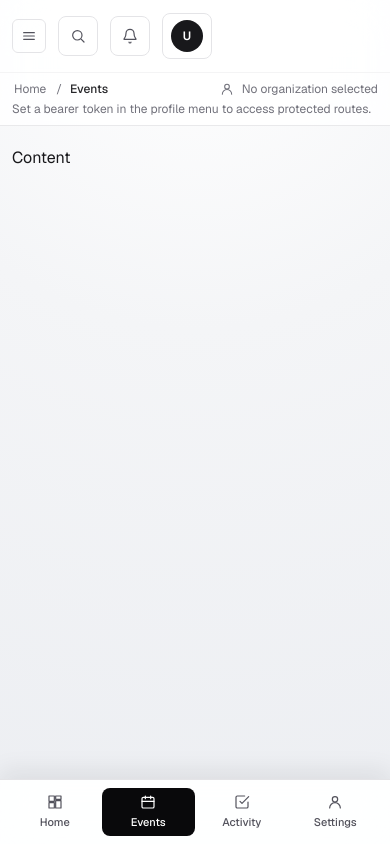
Test case: AppShell › opens the mobile navigation drawer
Click the button named "Open navigation menu" at (29, 36), box [12,19,46,53]
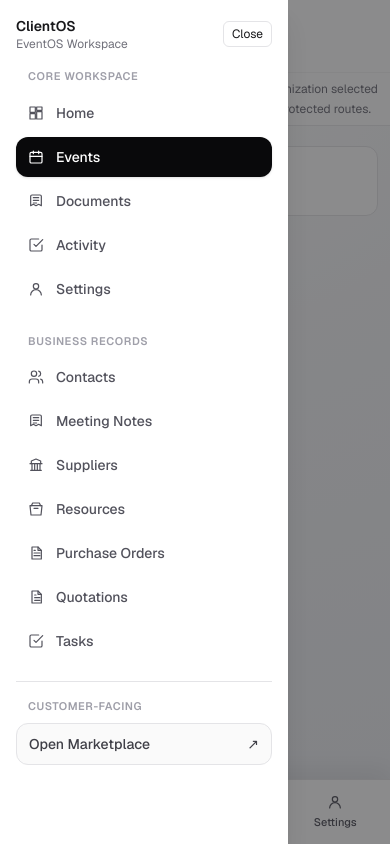
expect the button with aria-label "Close navigation menu" is shown: met, box [223,21,272,47]
expect the number of links "Open Marketplace" is 2: met
